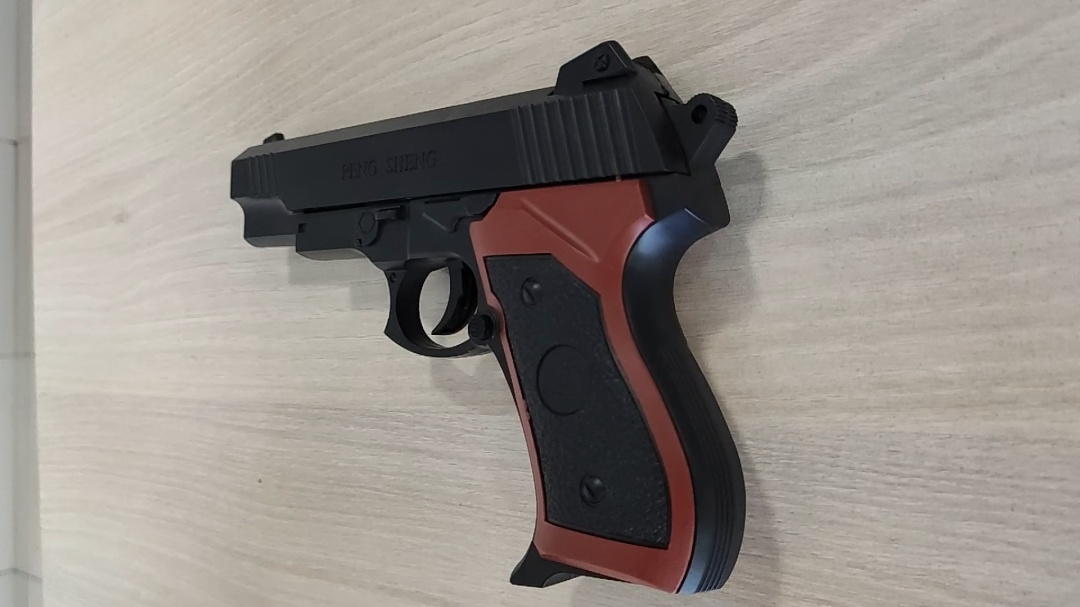gun: (231, 44, 755, 598)
